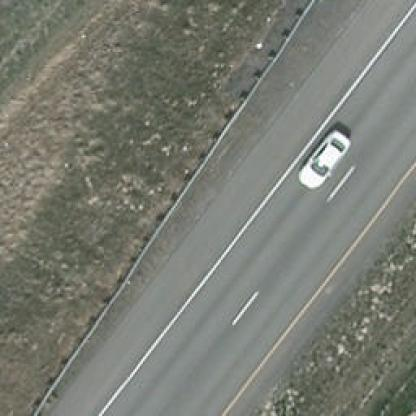car: (290, 125, 350, 189)
